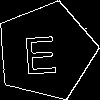E: (21, 26, 59, 75)
